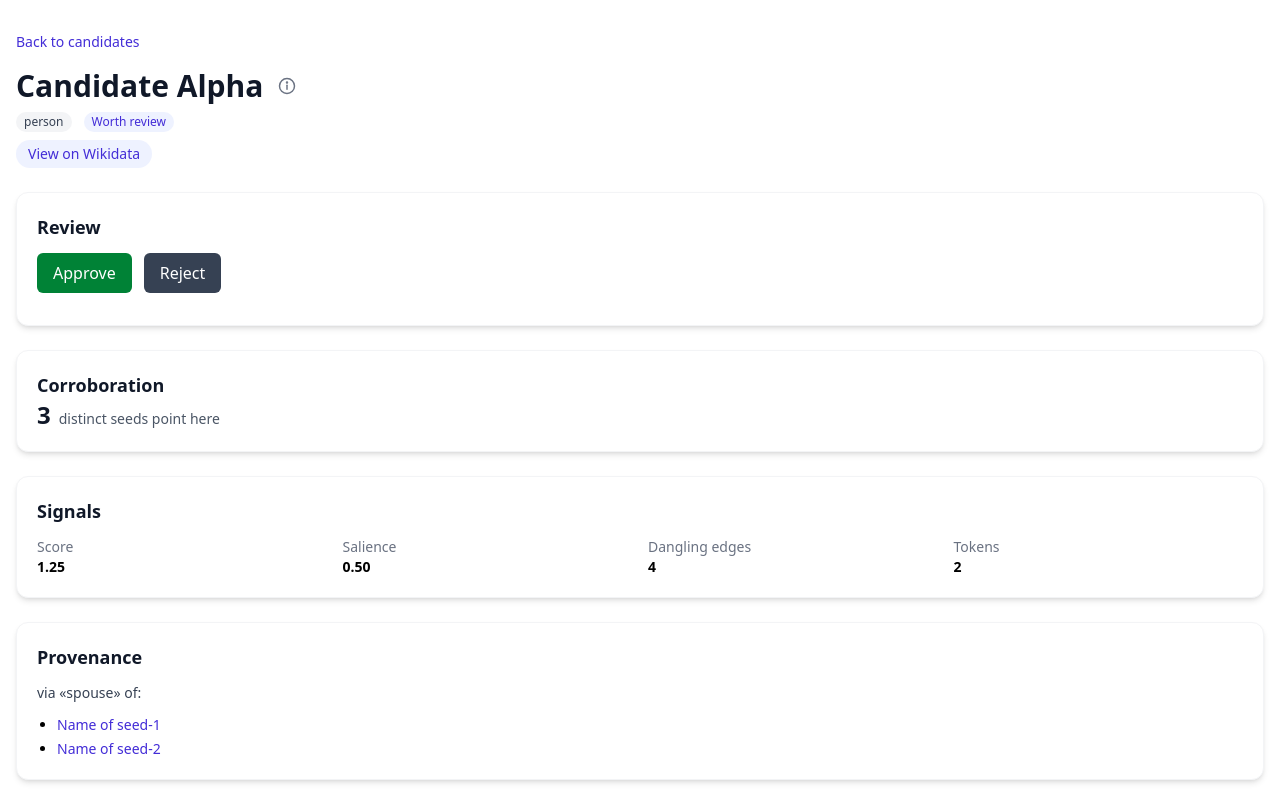
CandidateDetailPage › terms explainer opens with the detail-only terms and closes on Escape
The image size is (1280, 796).
Click the button named "What do these terms mean?".
click(287, 86)  # box [271,70,303,102]
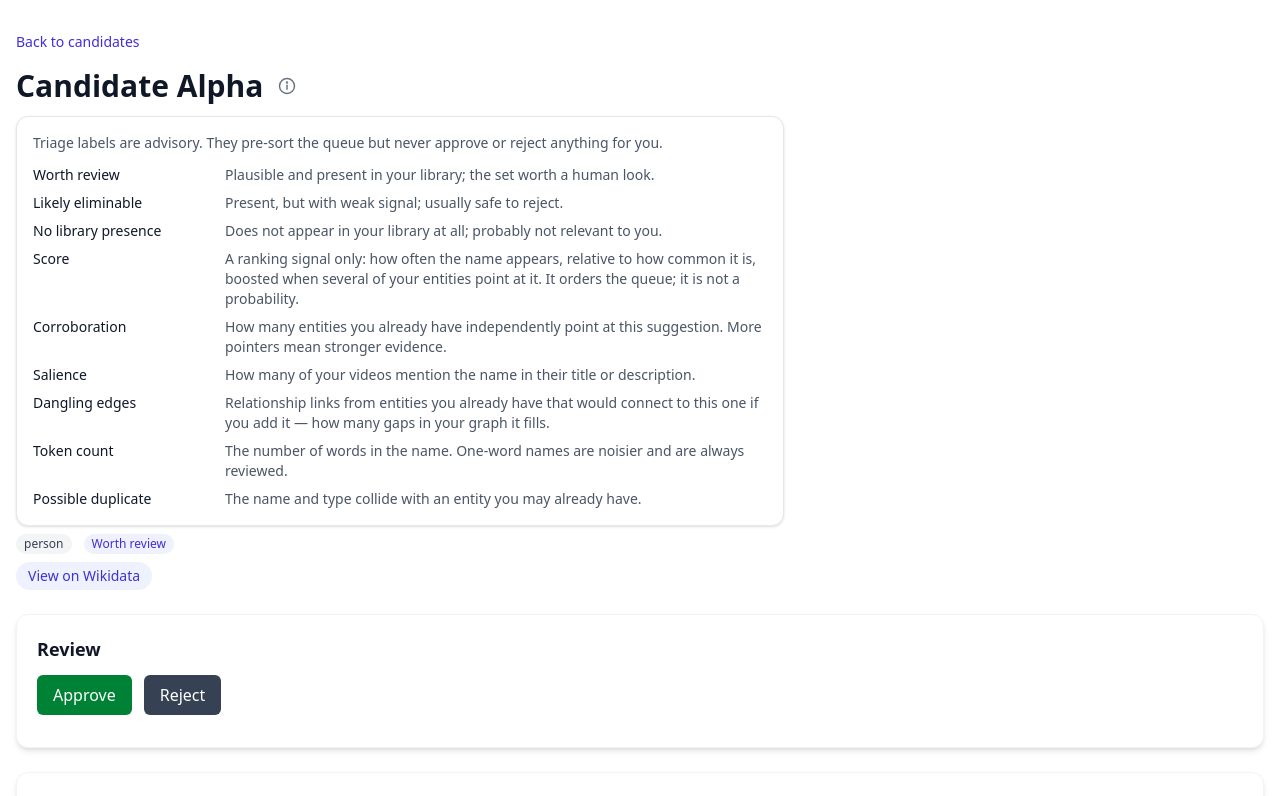
Expected: the text "Dangling edges" is shown, [33,393,136,412]
Expected: the text "gaps in your graph" is shown, [225,393,758,432]
Expected: the text "Token count" is shown, [33,441,114,460]
Press Escape in the element named "Candidate review terms", box [16,116,784,526]
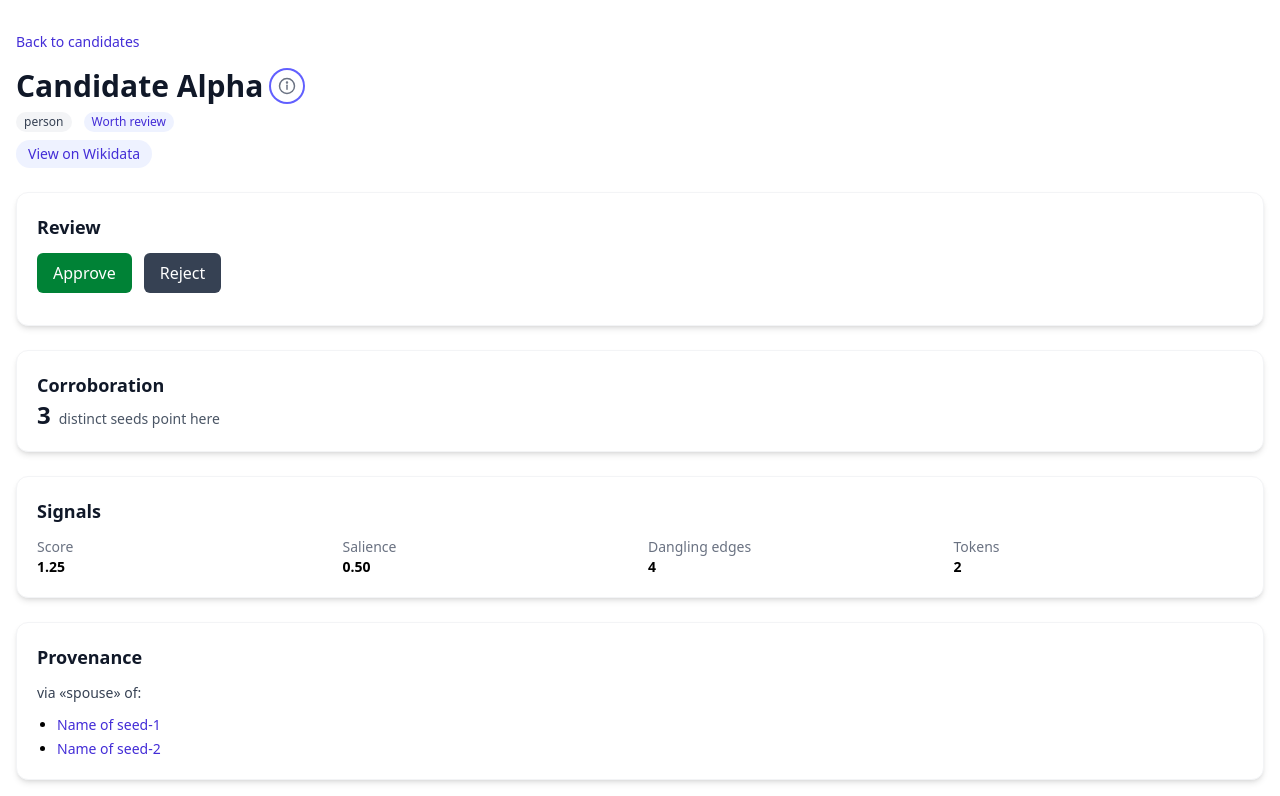
Expected: the button named "What do these terms mean?" is collapsed, [271,70,303,102]
